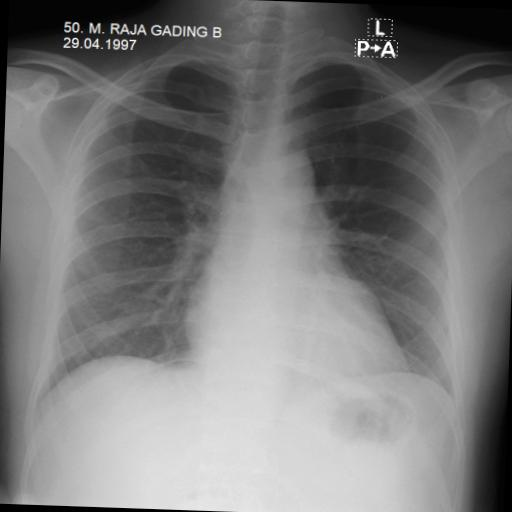normal: (30, 34, 475, 441)
